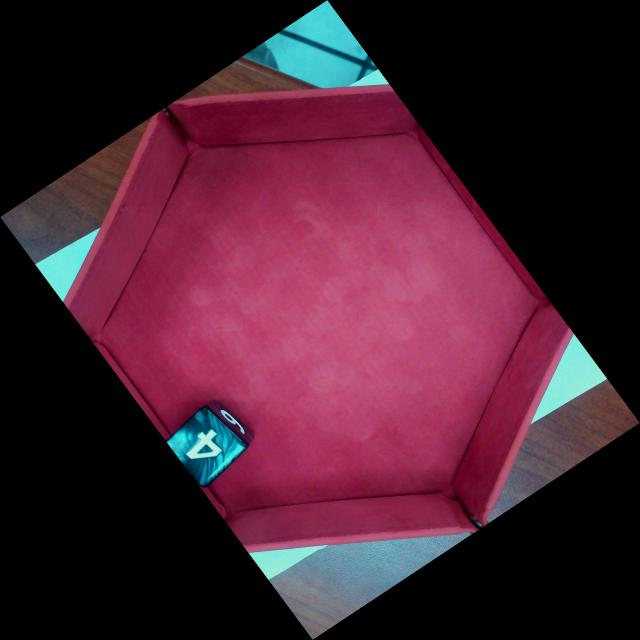dice: (170, 412, 244, 481)
